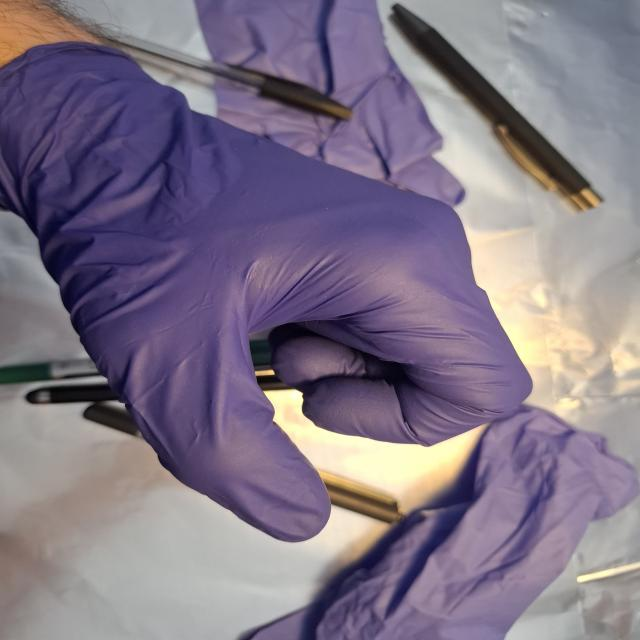glove_on: (0, 38, 539, 548)
